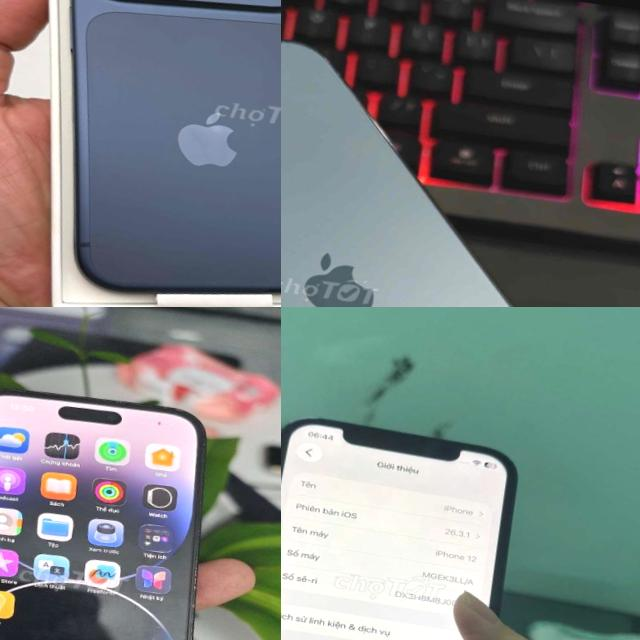gen_12_13: (281, 3, 640, 307), (281, 404, 550, 640)
gen_14: (0, 376, 238, 640)
gen_17: (36, 0, 281, 307)
scratch: (162, 546, 216, 640), (0, 374, 9, 417)
